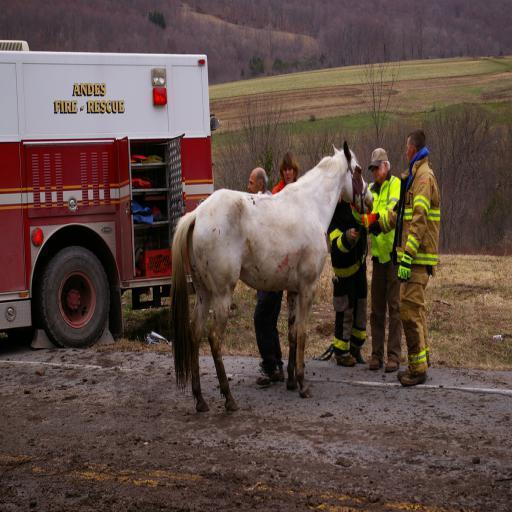horse: (166, 140, 376, 416)
